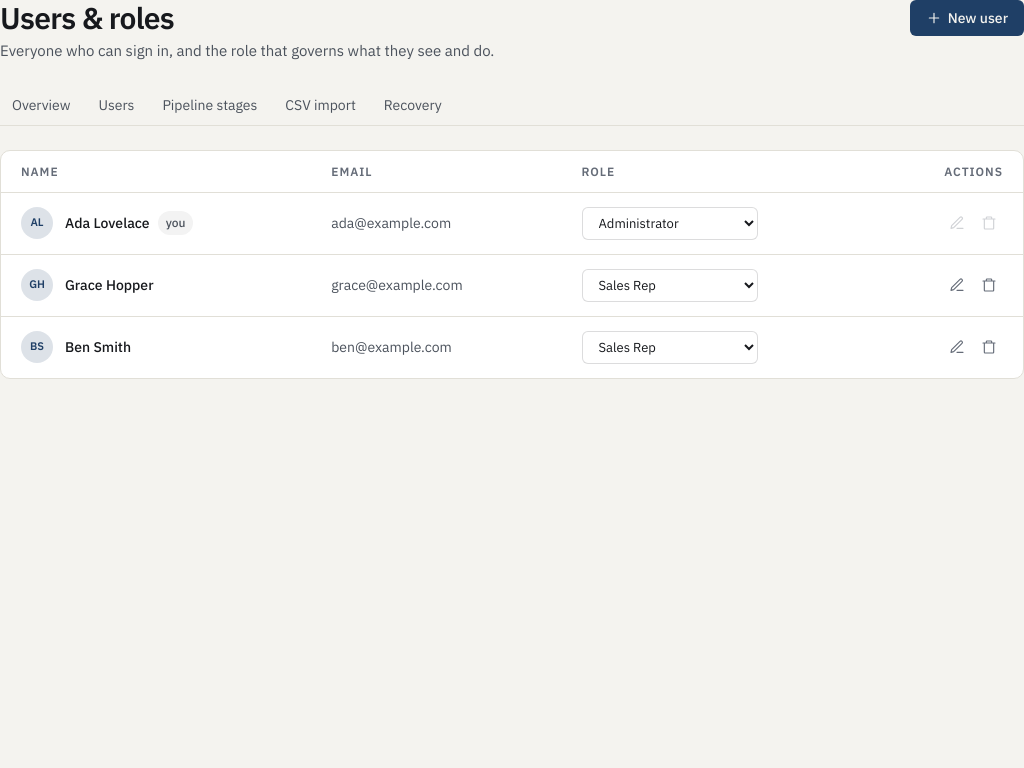
it: AdminUsersPage › prefills and saves the edit form
expect the text "Ada Lovelace" is shown: met, box [65, 213, 150, 233]
Click the button named "Edit Ben Smith" at (957, 347), box [943, 333, 971, 361]
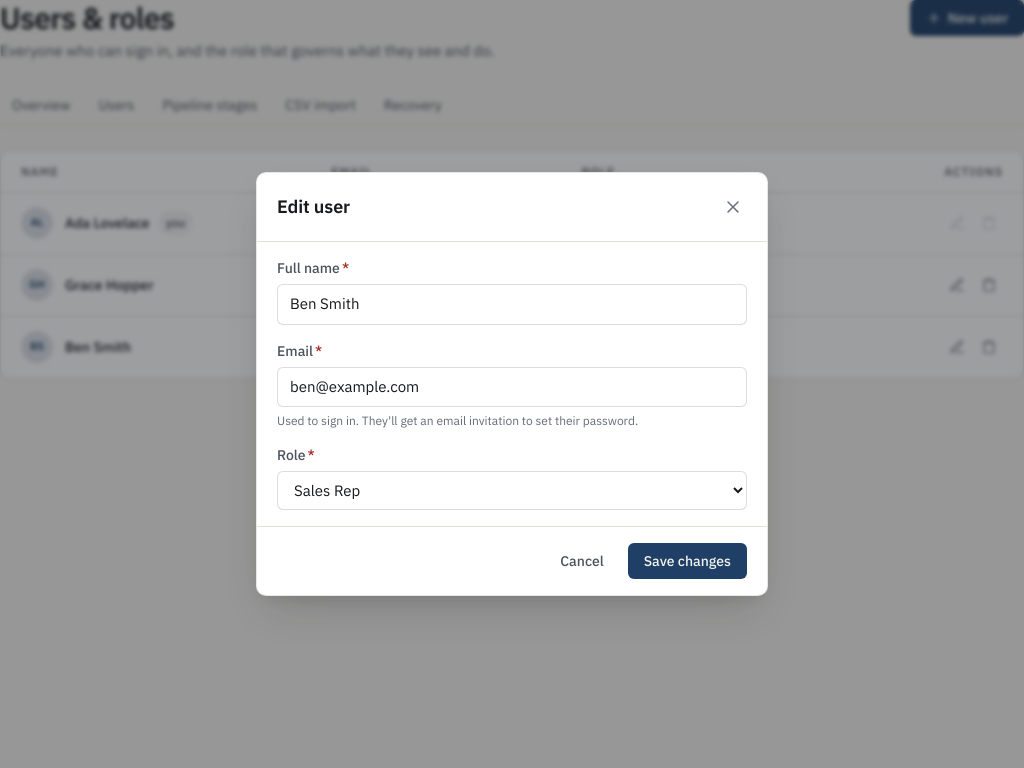
expect the field labelled "Full name*" holds "Ben Smith": met
expect the field labelled "Email*" holds "ben@example.com": met, box [277, 366, 747, 407]
expect the dropdown labelled "Role*" shows "Sales Rep": met, box [277, 471, 747, 510]
Replace the text in the field labelled "Full name*" with "Ben S." at (512, 304), box [277, 284, 747, 324]
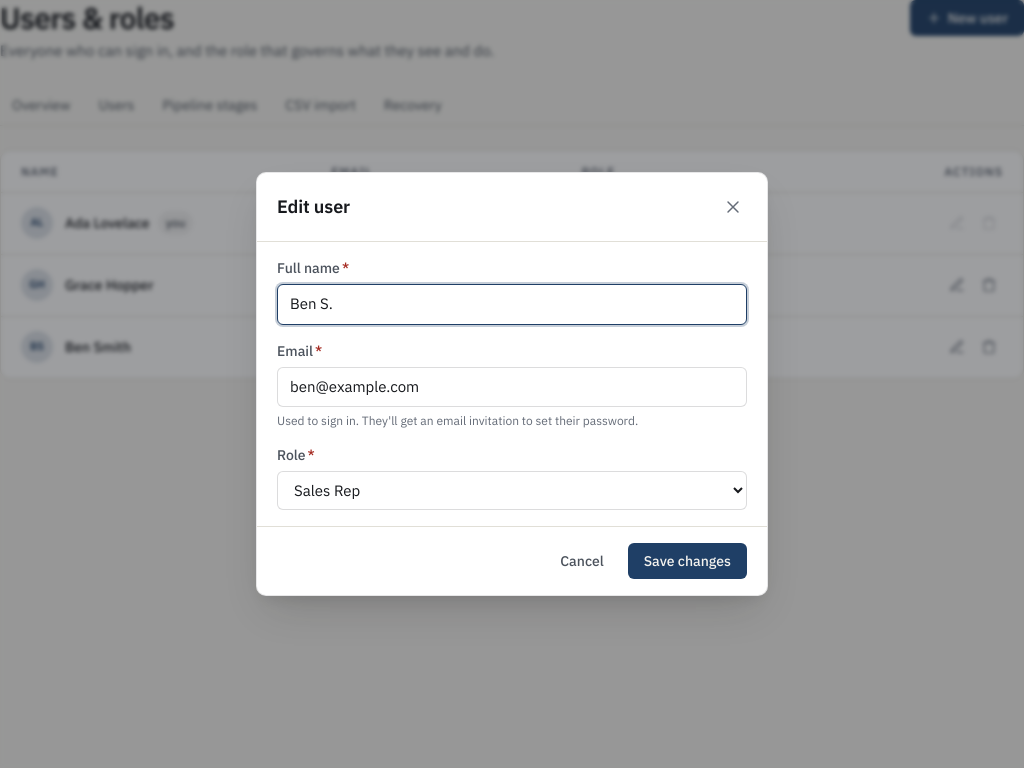
Click the button "Save changes" at (687, 561), box [628, 543, 747, 579]
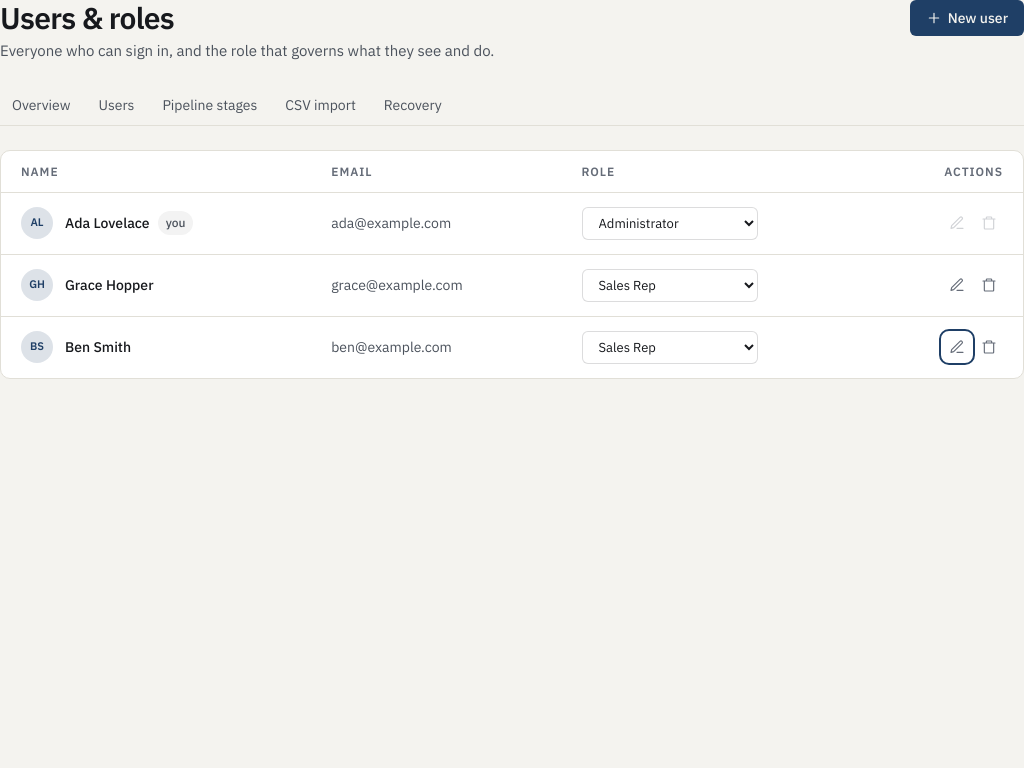
expect the heading "Edit user" is gone: met
